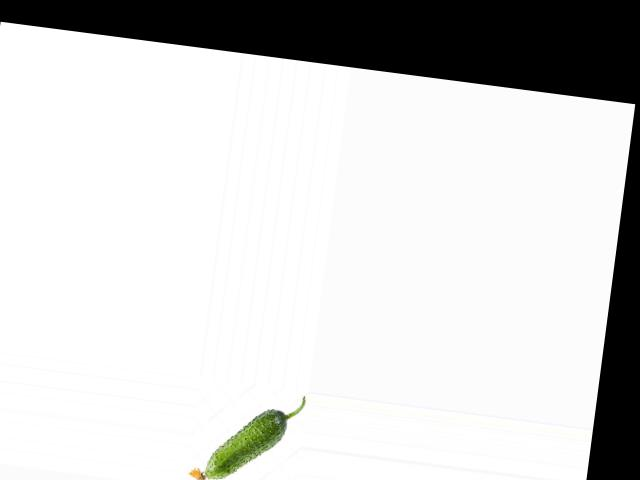cucumber: (187, 382, 305, 480)
